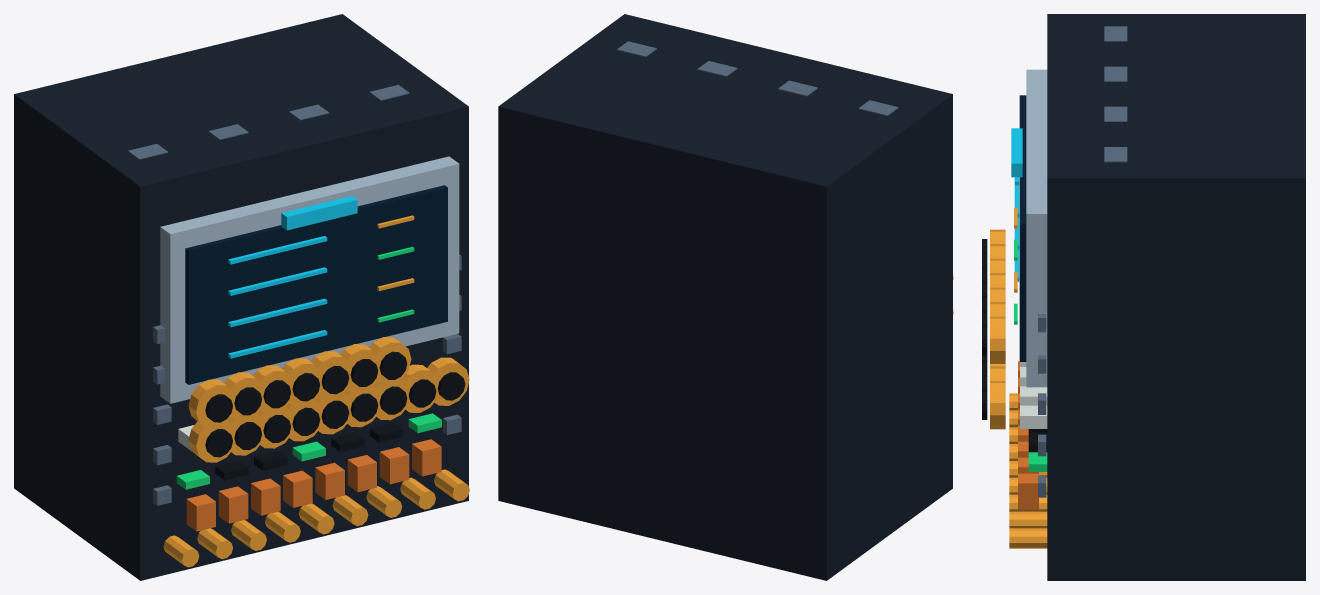
The model's file is 51_L88_HumidityRecoveryPLC.fbx.
3 renders of one model, left to right at view 1: azimuth 30°, elevation 25°; view 2: azimuth 150°, elevation 25°; view 3: azimuth 270°, elevation 25°, orthographic. The views are drawn at different scales.
Visible parts, largest first — view 1: L87_HumidityRecoveryPLC_Part_0000, L87_HumidityRecoveryPLC_Part_0002, L87_HumidityRecoveryPLC_Part_0001, L87_HumidityRecoveryPLC_Part_0009, L87_HumidityRecoveryPLC_Part_0004, L87_HumidityRecoveryPLC_Part_0008, L87_HumidityRecoveryPLC_Part_0003, L87_HumidityRecoveryPLC_Part_0007, L87_HumidityRecoveryPLC_Part_0005, L87_HumidityRecoveryPLC_Part_0010, L87_HumidityRecoveryPLC_Part_0029, L87_HumidityRecoveryPLC_Part_0011 (+27 smaller); view 2: L87_HumidityRecoveryPLC_Part_0000, L87_HumidityRecoveryPLC_Part_0008; view 3: L87_HumidityRecoveryPLC_Part_0000, L87_HumidityRecoveryPLC_Part_0001, L87_HumidityRecoveryPLC_Part_0004, L87_HumidityRecoveryPLC_Part_0008, L87_HumidityRecoveryPLC_Part_0002, L87_HumidityRecoveryPLC_Part_0009, L87_HumidityRecoveryPLC_Part_0006, L87_HumidityRecoveryPLC_Part_0027, L87_HumidityRecoveryPLC_Part_0041, L87_HumidityRecoveryPLC_Part_0010, L87_HumidityRecoveryPLC_Part_0005, L87_HumidityRecoveryPLC_Part_0003.
Boxes of the visible parts, x1=… form: L87_HumidityRecoveryPLC_Part_0000: x1=14, y1=14, x2=468, y2=580; L87_HumidityRecoveryPLC_Part_0002: x1=185, y1=185, x2=447, y2=384; L87_HumidityRecoveryPLC_Part_0001: x1=160, y1=156, x2=459, y2=403; L87_HumidityRecoveryPLC_Part_0009: x1=186, y1=439, x2=441, y2=531; L87_HumidityRecoveryPLC_Part_0004: x1=163, y1=215, x2=469, y2=567; L87_HumidityRecoveryPLC_Part_0008: x1=128, y1=85, x2=461, y2=505; L87_HumidityRecoveryPLC_Part_0003: x1=228, y1=236, x2=327, y2=358; L87_HumidityRecoveryPLC_Part_0007: x1=215, y1=423, x2=403, y2=480; L87_HumidityRecoveryPLC_Part_0005: x1=176, y1=246, x2=441, y2=489; L87_HumidityRecoveryPLC_Part_0010: x1=281, y1=196, x2=357, y2=230; L87_HumidityRecoveryPLC_Part_0029: x1=188, y1=379, x2=235, y2=427; L87_HumidityRecoveryPLC_Part_0011: x1=188, y1=420, x2=235, y2=462; L87_HumidityRecoveryPLC_Part_0000: x1=498, y1=14, x2=952, y2=580; L87_HumidityRecoveryPLC_Part_0008: x1=617, y1=41, x2=898, y2=115; L87_HumidityRecoveryPLC_Part_0000: x1=1047, y1=14, x2=1305, y2=580; L87_HumidityRecoveryPLC_Part_0001: x1=1026, y1=69, x2=1047, y2=387; L87_HumidityRecoveryPLC_Part_0004: x1=1009, y1=207, x2=1047, y2=548; L87_HumidityRecoveryPLC_Part_0008: x1=1038, y1=26, x2=1127, y2=497; L87_HumidityRecoveryPLC_Part_0002: x1=1019, y1=95, x2=1026, y2=361; L87_HumidityRecoveryPLC_Part_0009: x1=1018, y1=361, x2=1038, y2=509; L87_HumidityRecoveryPLC_Part_0006: x1=1020, y1=362, x2=1047, y2=428; L87_HumidityRecoveryPLC_Part_0027: x1=990, y1=381, x2=1005, y2=429; L87_HumidityRecoveryPLC_Part_0041: x1=990, y1=316, x2=1005, y2=363; L87_HumidityRecoveryPLC_Part_0010: x1=1011, y1=128, x2=1022, y2=177; L87_HumidityRecoveryPLC_Part_0005: x1=1014, y1=239, x2=1047, y2=471; L87_HumidityRecoveryPLC_Part_0003: x1=1014, y1=177, x2=1019, y2=281.
Size of the model in its own units: 104 by 120 by 86.88.
